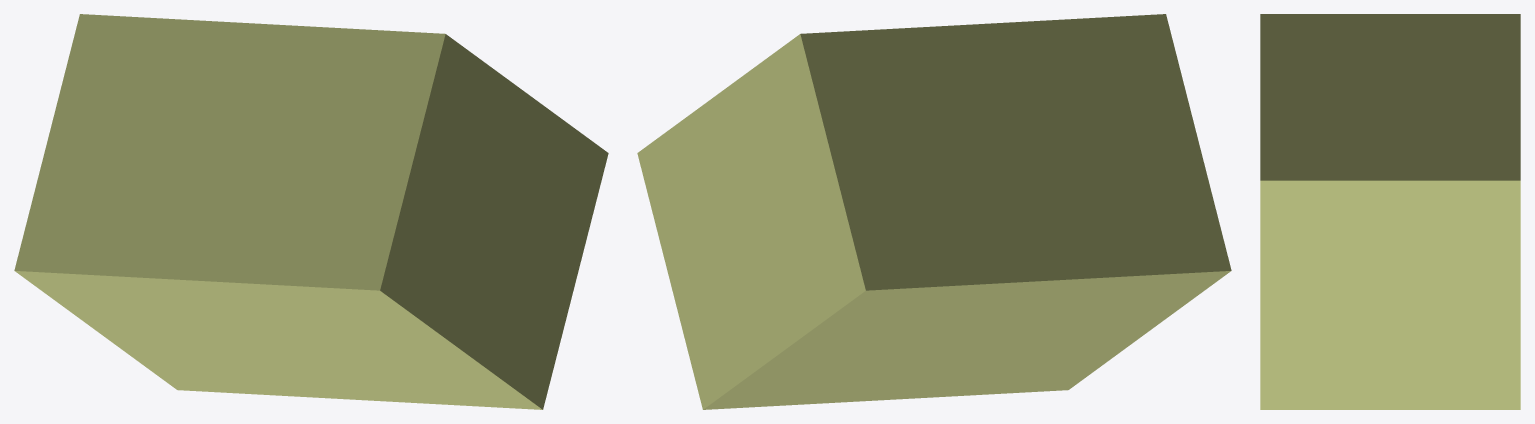
The picture shows the model from 3 angles, left to right: view 1: azimuth 30°, elevation 25°; view 2: azimuth 150°, elevation 25°; view 3: azimuth 270°, elevation 25°; orthographic projection. The views are drawn at different scales.
Parts seen in each view (by area): view 1: 0_0_1_3_2_2_2_0_3_0; view 2: 0_0_1_3_2_2_2_0_3_0; view 3: 0_0_1_3_2_2_2_0_3_0.
Part boxes in pixels (x1,y1,x2,y2): 0_0_1_3_2_2_2_0_3_0: (14, 14, 608, 409); 0_0_1_3_2_2_2_0_3_0: (637, 14, 1231, 409); 0_0_1_3_2_2_2_0_3_0: (1260, 14, 1520, 409).
Size of the model in its own units: 9.17 by 7.11 by 6.
